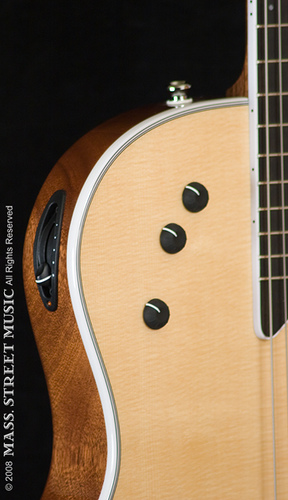guitar: (19, 1, 288, 500)
